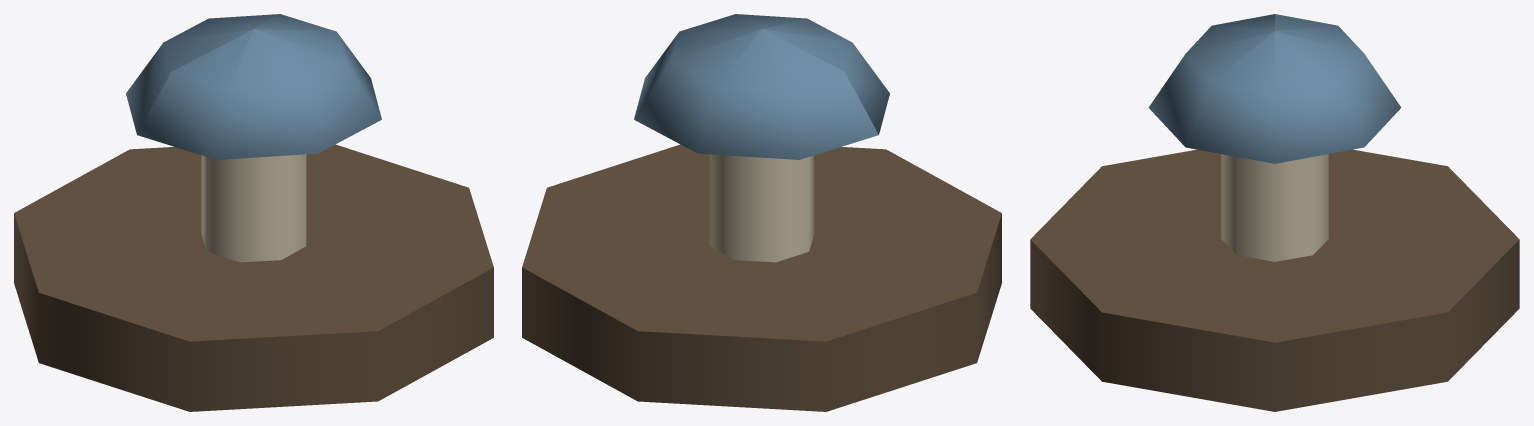
File: plant-starcap-1.glb
3 renders of one model, left to right at view 1: azimuth 30°, elevation 25°; view 2: azimuth 150°, elevation 25°; view 3: azimuth 270°, elevation 25°, orthographic.
Visible parts, largest first — view 1: plant-starcap-1-visual; view 2: plant-starcap-1-visual; view 3: plant-starcap-1-visual.
Part boxes in pixels (bbox=[...]): plant-starcap-1-visual: bbox=[14, 14, 493, 411]; plant-starcap-1-visual: bbox=[522, 14, 1001, 411]; plant-starcap-1-visual: bbox=[1030, 14, 1519, 411].
Size of the model in its own units: 0.32 by 0.2001 by 0.32.
